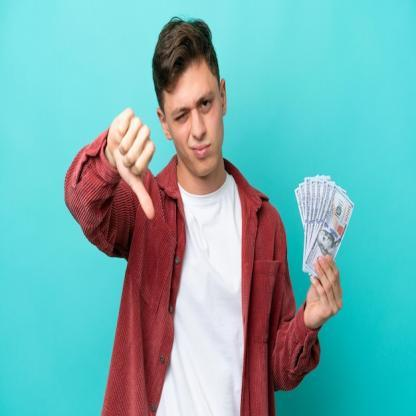thumb_down: (103, 106, 160, 220)
